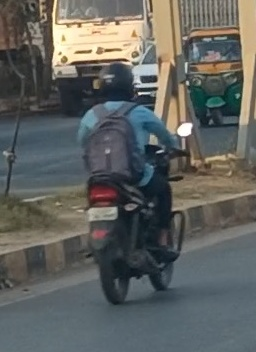BikeWithRider: (73, 61, 198, 306)
Helmet: (95, 62, 143, 103)
